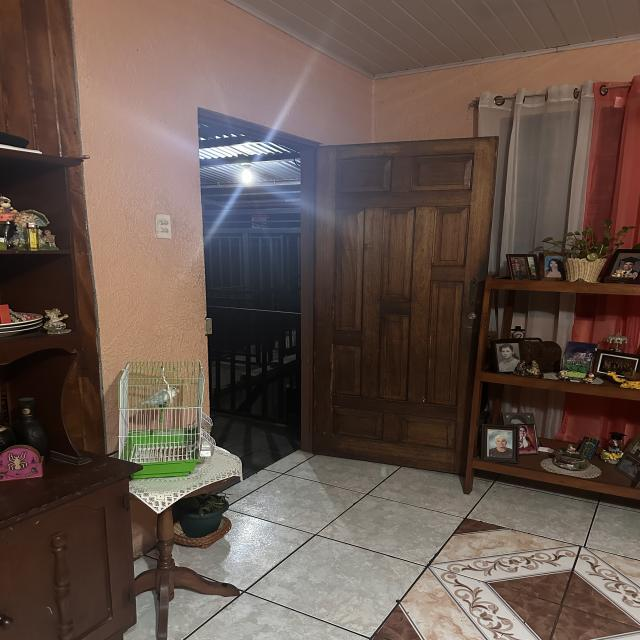OpenDoor: (192, 106, 322, 464)
